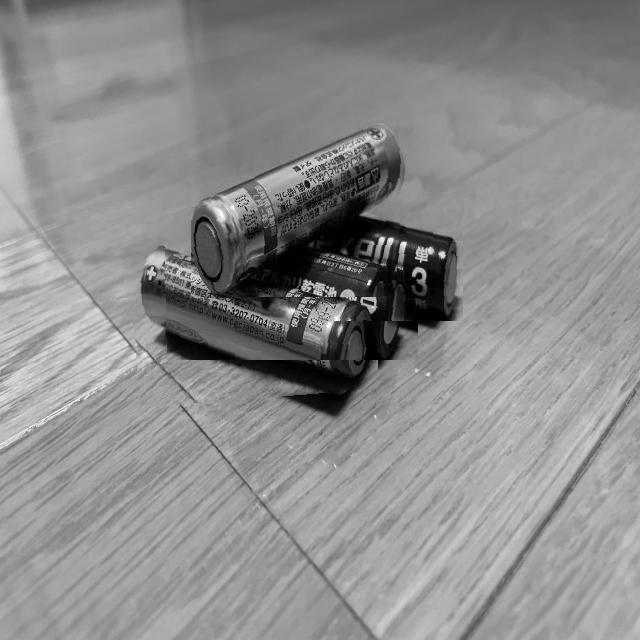battery: (126, 244, 378, 408), (191, 118, 408, 298), (164, 224, 418, 360), (308, 190, 463, 322)
